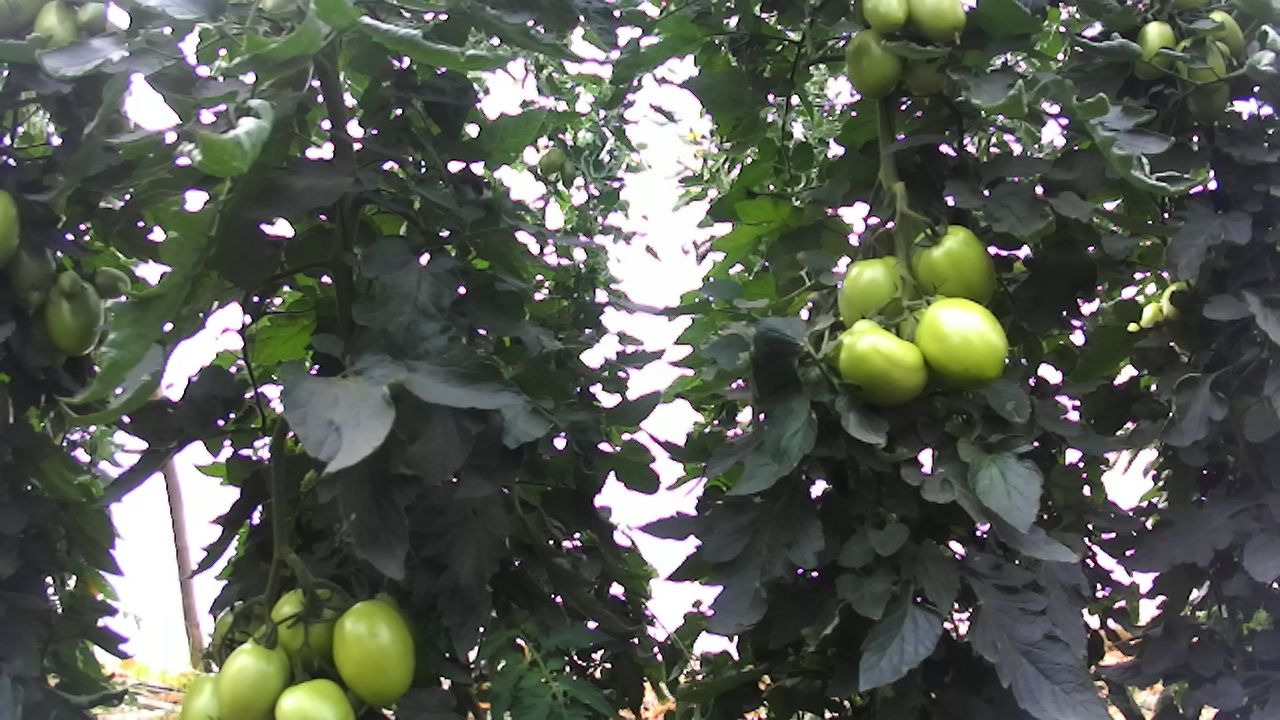tomato: (328, 594, 423, 709), (834, 317, 938, 415), (915, 294, 1022, 386), (906, 215, 1004, 312), (208, 633, 301, 720), (831, 252, 913, 335), (39, 268, 110, 360), (842, 25, 908, 102), (272, 671, 365, 720), (1130, 18, 1182, 81), (901, 0, 975, 44), (858, 0, 910, 35), (89, 262, 134, 299), (74, 0, 111, 35), (54, 264, 83, 300)
